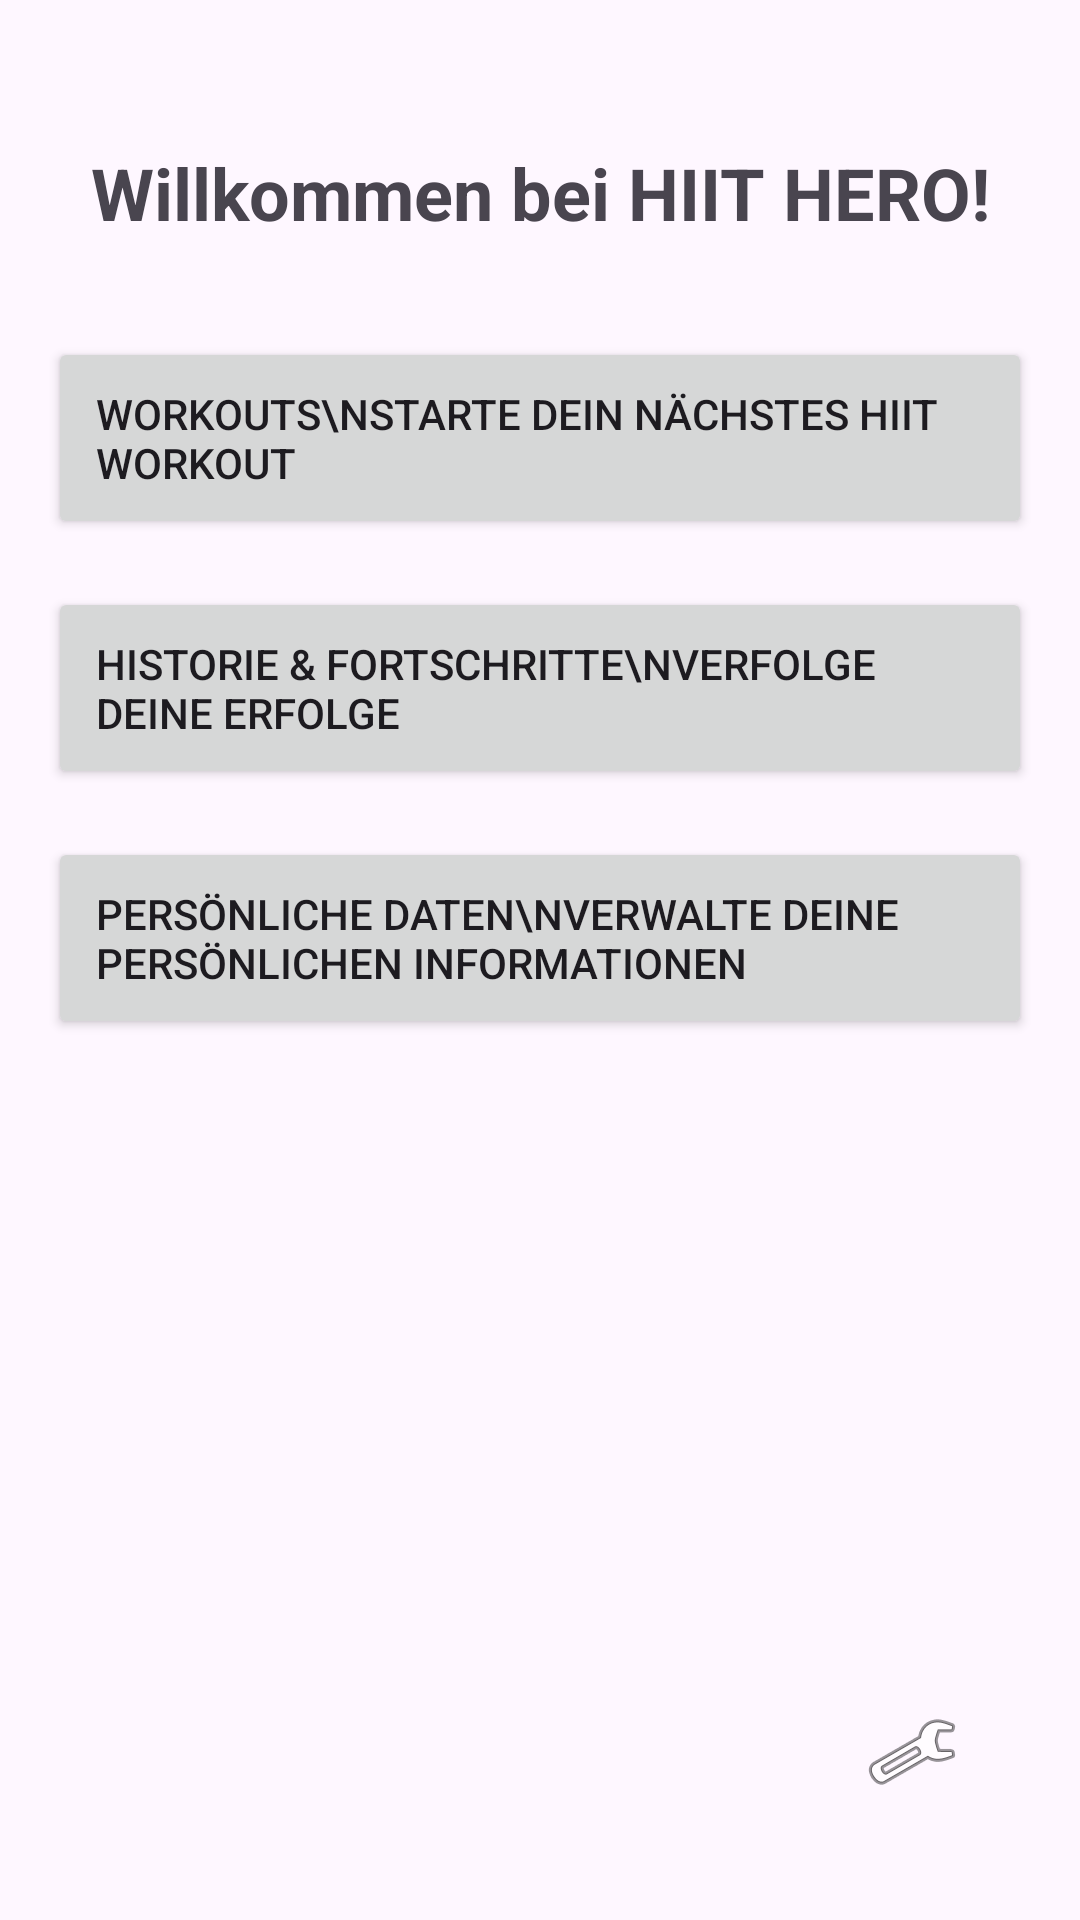

Icon click points for this 1080x1920 phone screenshot, format point (x, y):
manage: point (912, 1752)
